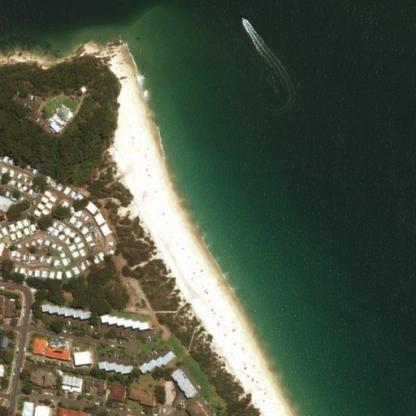ship: (236, 10, 252, 29)
